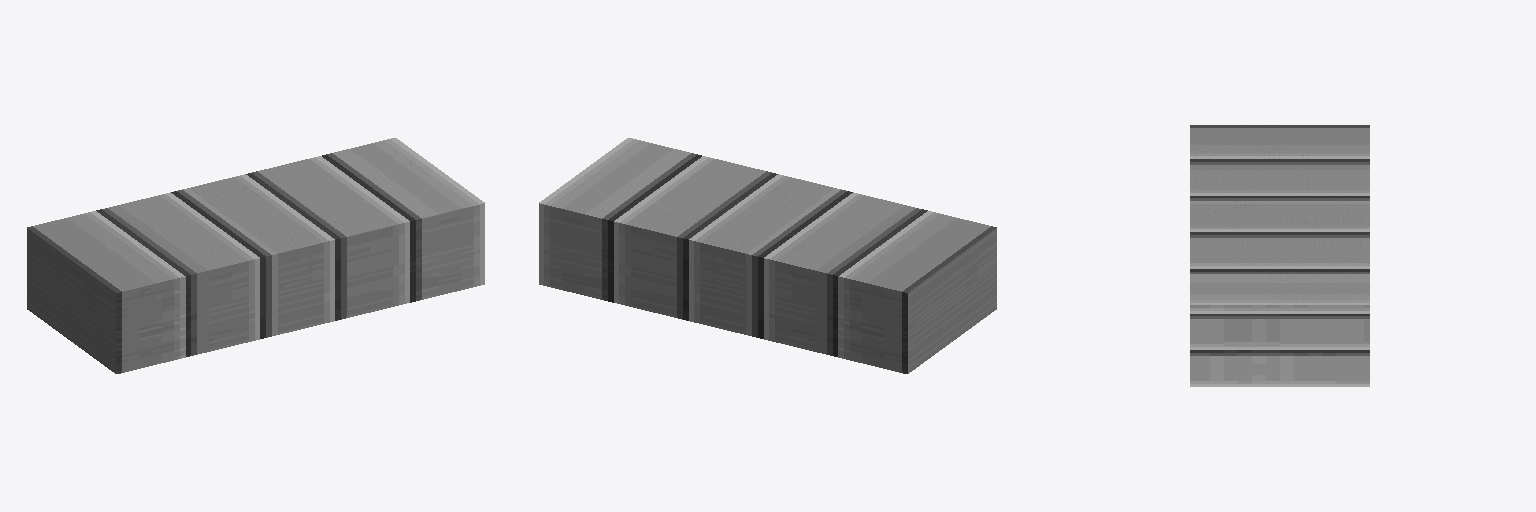
The picture shows the model from 3 angles: view 1: azimuth 30°, elevation 25°; view 2: azimuth 150°, elevation 25°; view 3: azimuth 270°, elevation 25°; orthographic projection.
Parts seen in each view (by area): view 1: world_root; view 2: world_root; view 3: world_root.
Part boxes in pixels (bbox=[...]): world_root: bbox=[27, 138, 484, 373]; world_root: bbox=[539, 138, 996, 373]; world_root: bbox=[1190, 125, 1369, 386].
Size of the model in its own units: 119 by 25 by 50.
Materials: 1 (1 with a texture image).